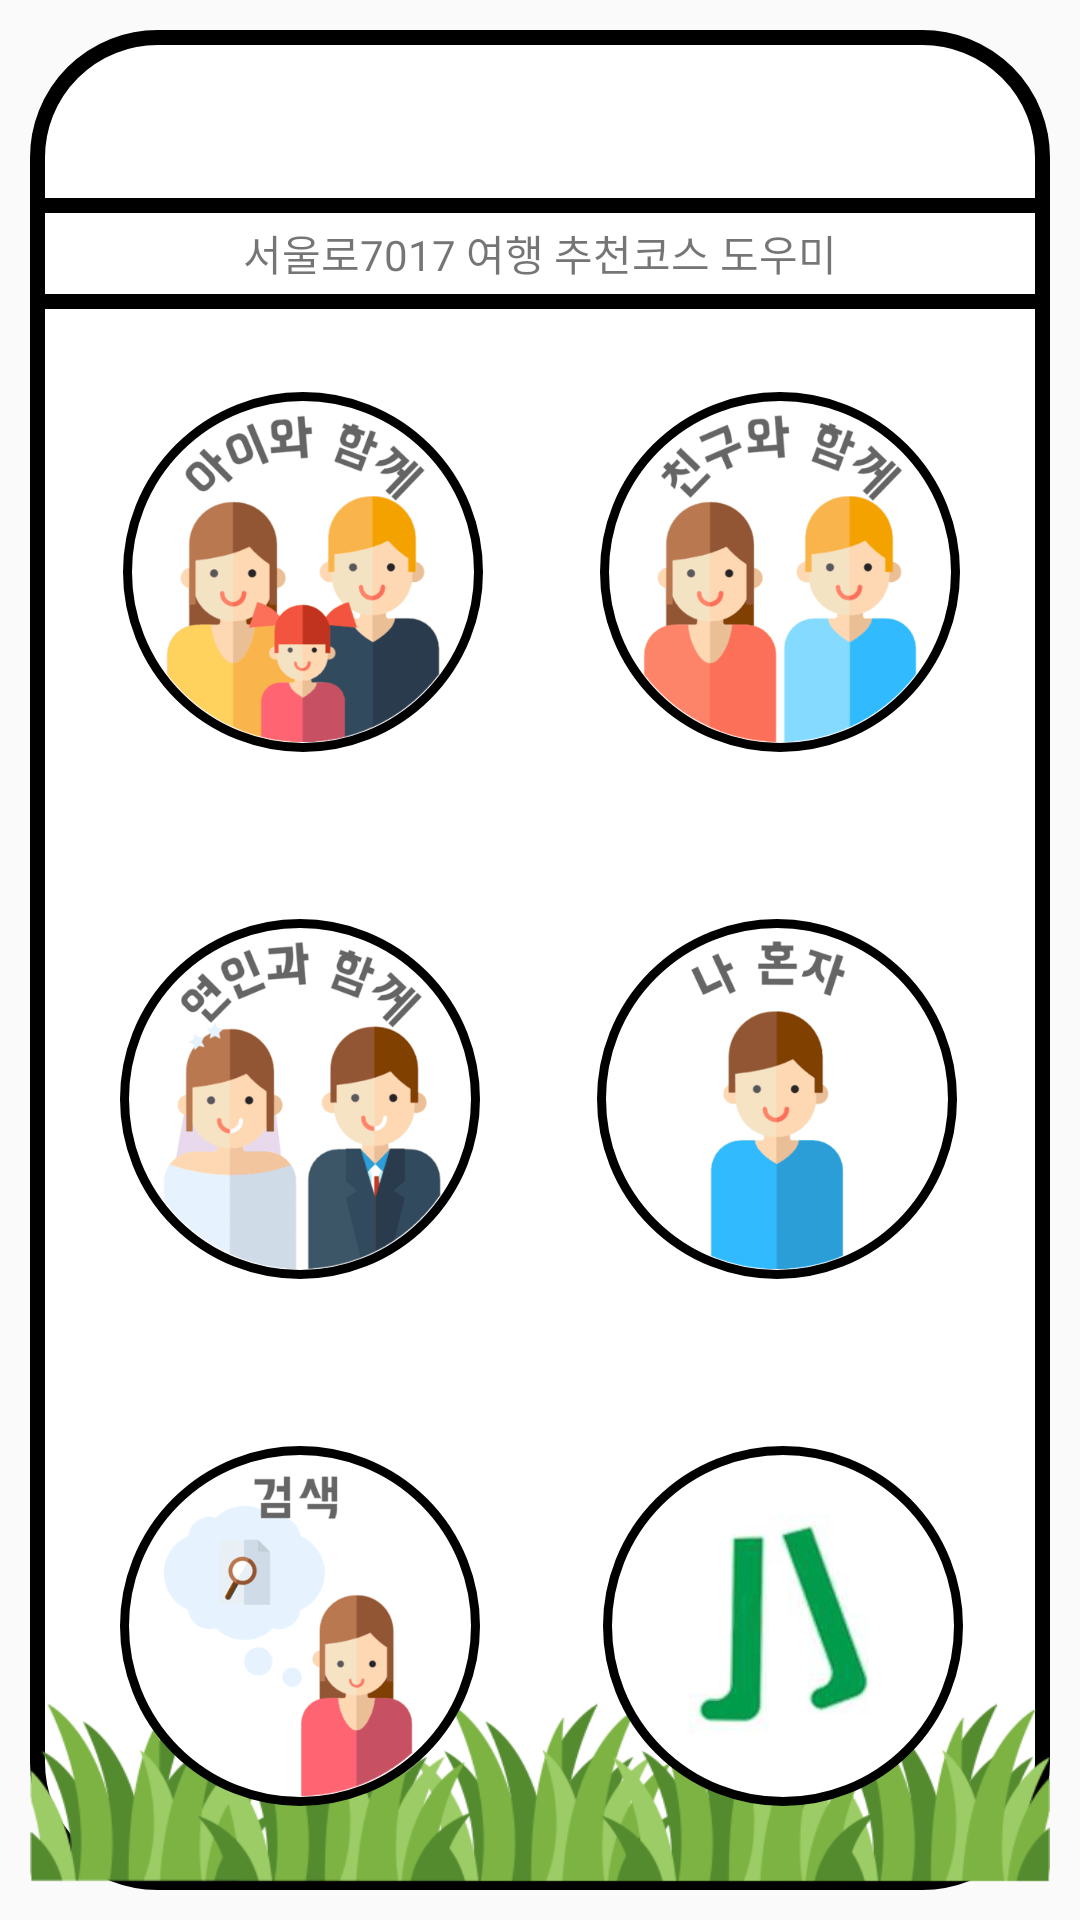

Screen size 1080*1920. Icon name, then its center in pixels as point (x, y):
leg: point (783, 1626)
